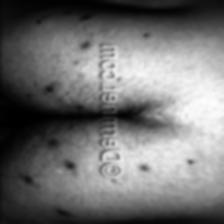Toxin: (31, 1, 90, 109), (16, 134, 79, 224), (130, 155, 190, 175), (135, 24, 155, 42)
